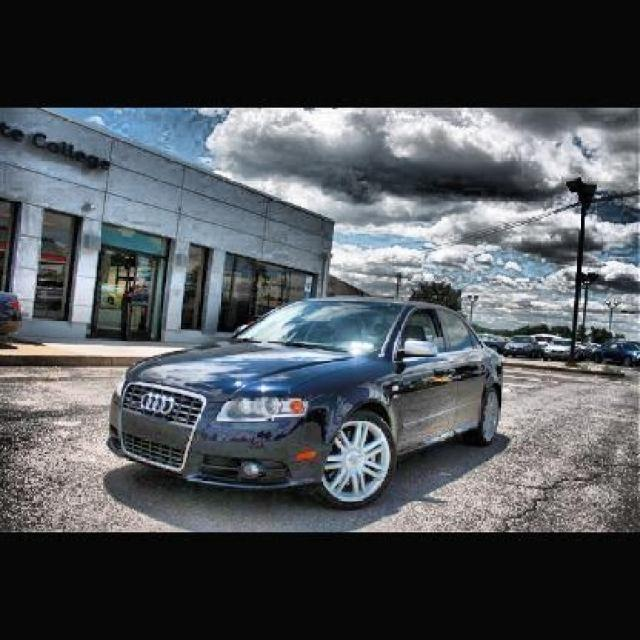black: (112, 291, 502, 499)
